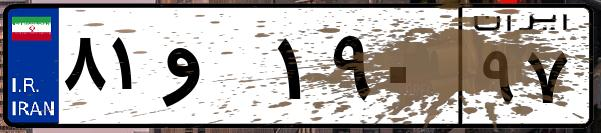0: (385, 28, 445, 110)
1: (270, 28, 330, 110), (110, 28, 158, 98)
7: (525, 38, 570, 115)
8: (57, 26, 110, 100)
9: (330, 28, 385, 110), (475, 38, 525, 113)
و: (158, 20, 270, 120)
